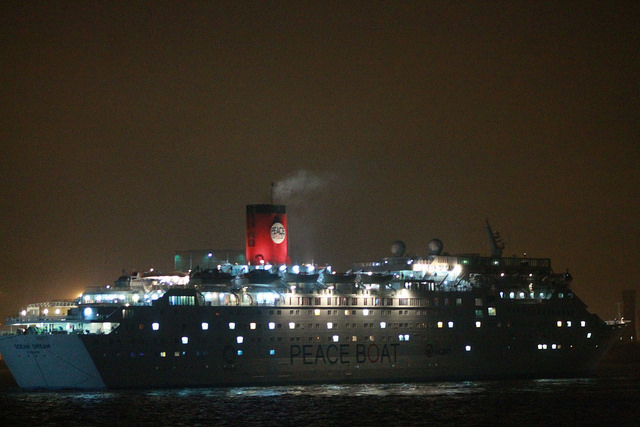cruise_ship: (6, 201, 640, 380)
